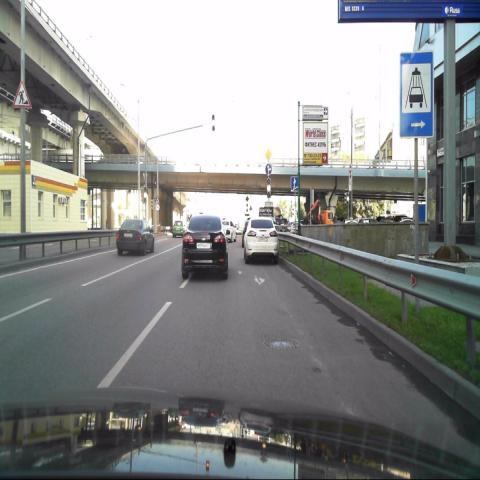7_5: (399, 52, 433, 136)
